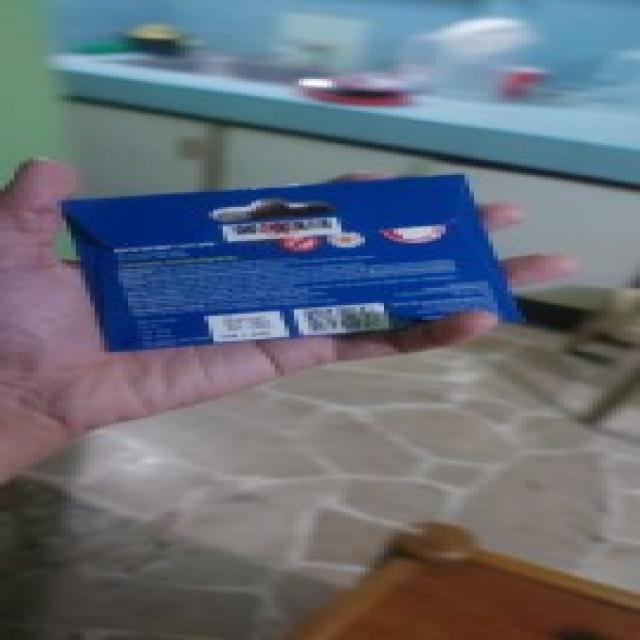Cacat: (59, 172, 517, 356)
